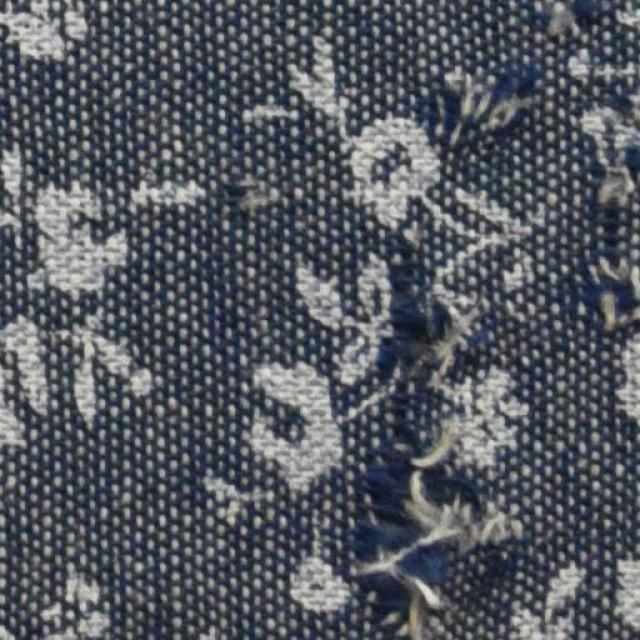Snag: (358, 243, 527, 639), (573, 84, 639, 330), (441, 62, 535, 145), (526, 0, 588, 53)
